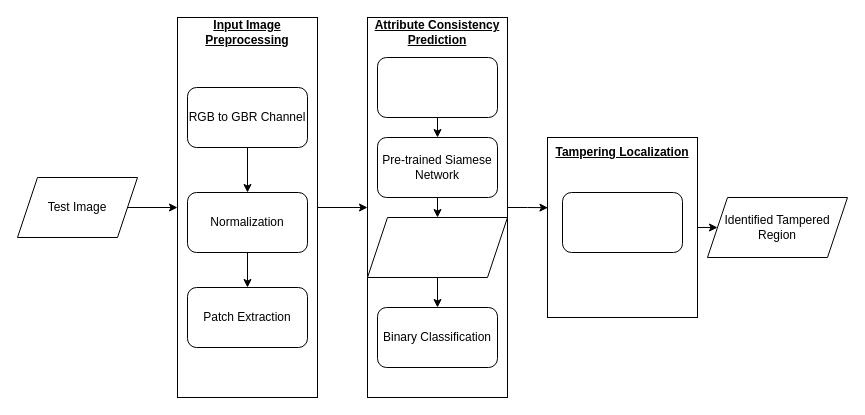
Image size: 865x415. Some labels were removed from this diagram. Each missing label, with the centre of its shape:
"Consistency Map List" goes at point (437, 247).
"Image Patches Acquisition" goes at point (437, 87).
"Segmentation using Mean Shift & Normalized Cut" goes at point (622, 222).
